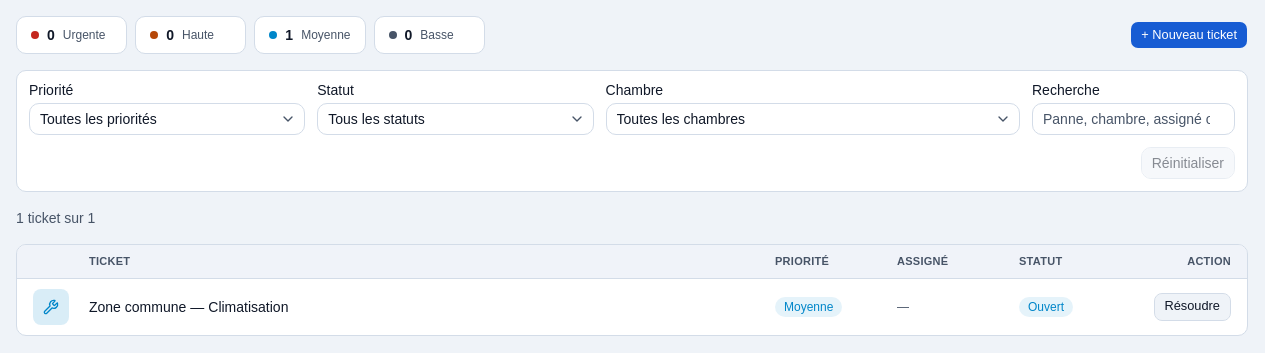
Test: MaintenancePage — création, résolution et accessibilité › conserve la recherche active après une résolution et ne recharge pas les chambres
The image size is (1265, 353).
Expected: the text "1 ticket sur 1" is shown, [16,210,95,226]
Type "clim" into the search field labelled "Recherche" at (1134, 119), box [1032,103,1235,135]
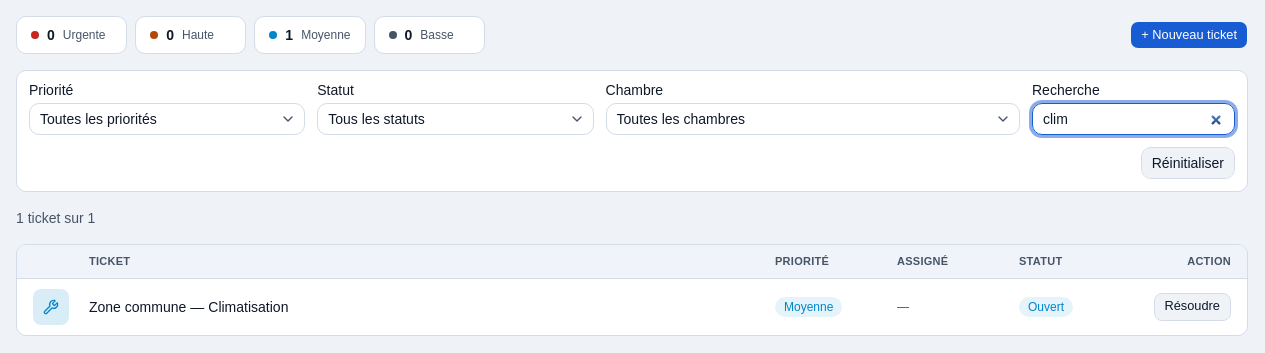
Click the button "Résoudre" at (1192, 306), box [1154,292,1231,320]
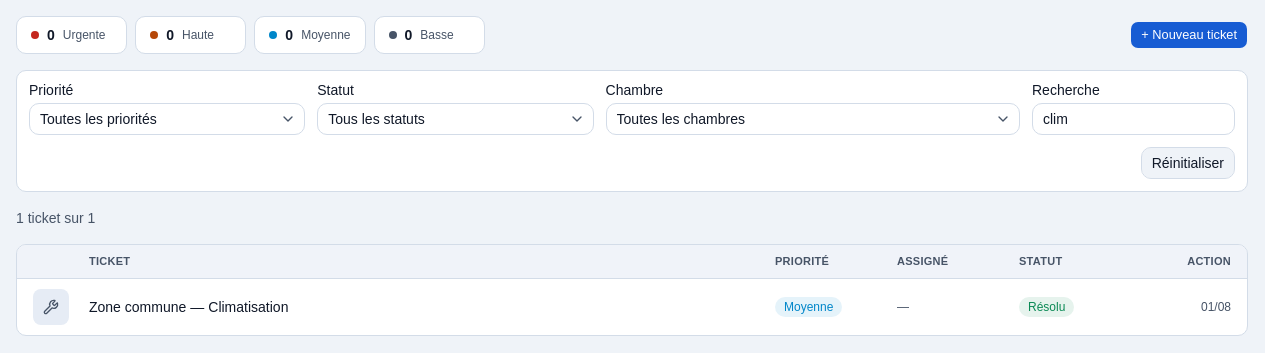
Now the text "01/08" is shown, box [1201,298,1231,314]
